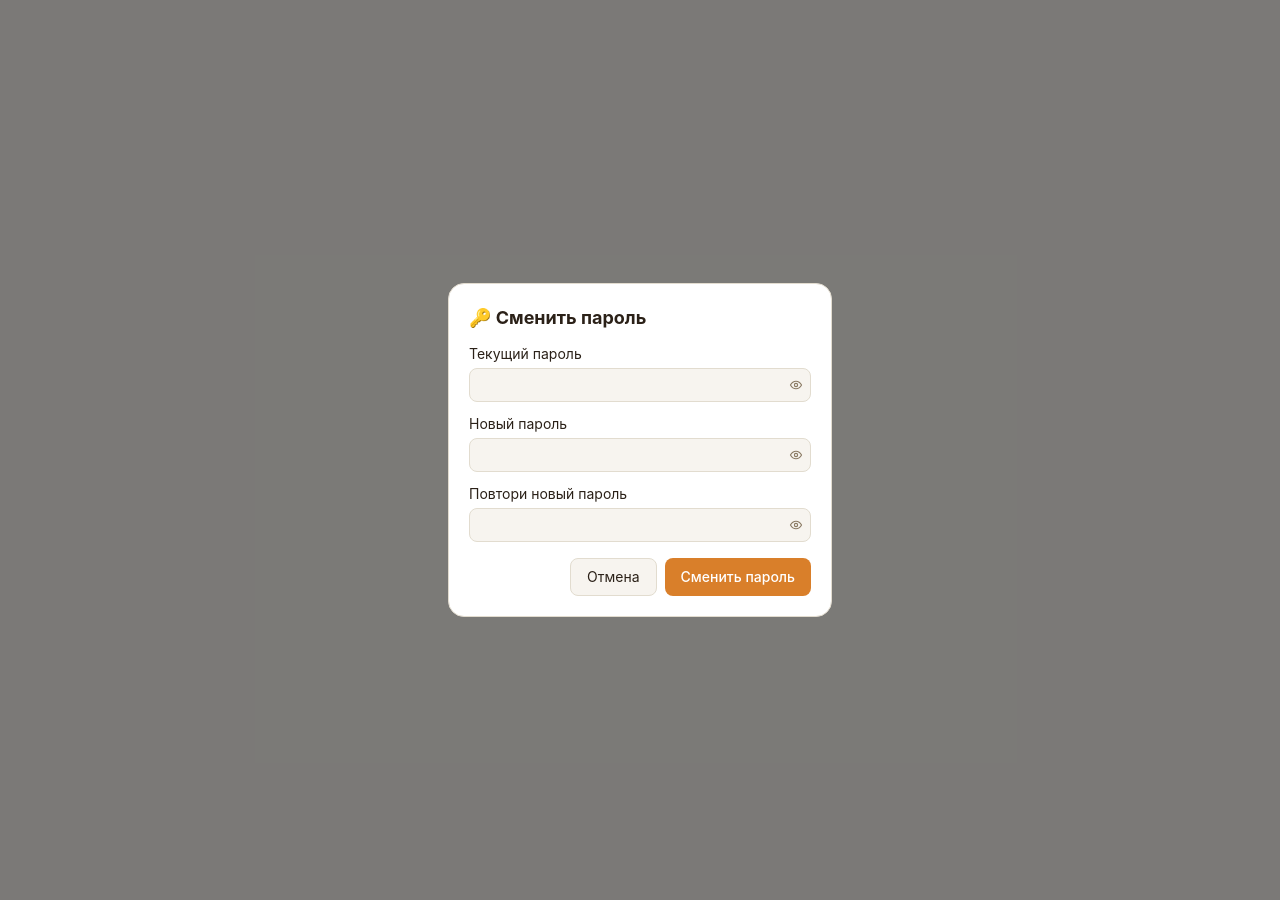
PasswordModal › пустой текущий пароль → сообщение, сеть не трогаем
The image size is (1280, 900).
Type "new-pass" into the password field labelled "Новый пароль".
click(640, 455); type("new-pass")  # box [469,438,811,472]
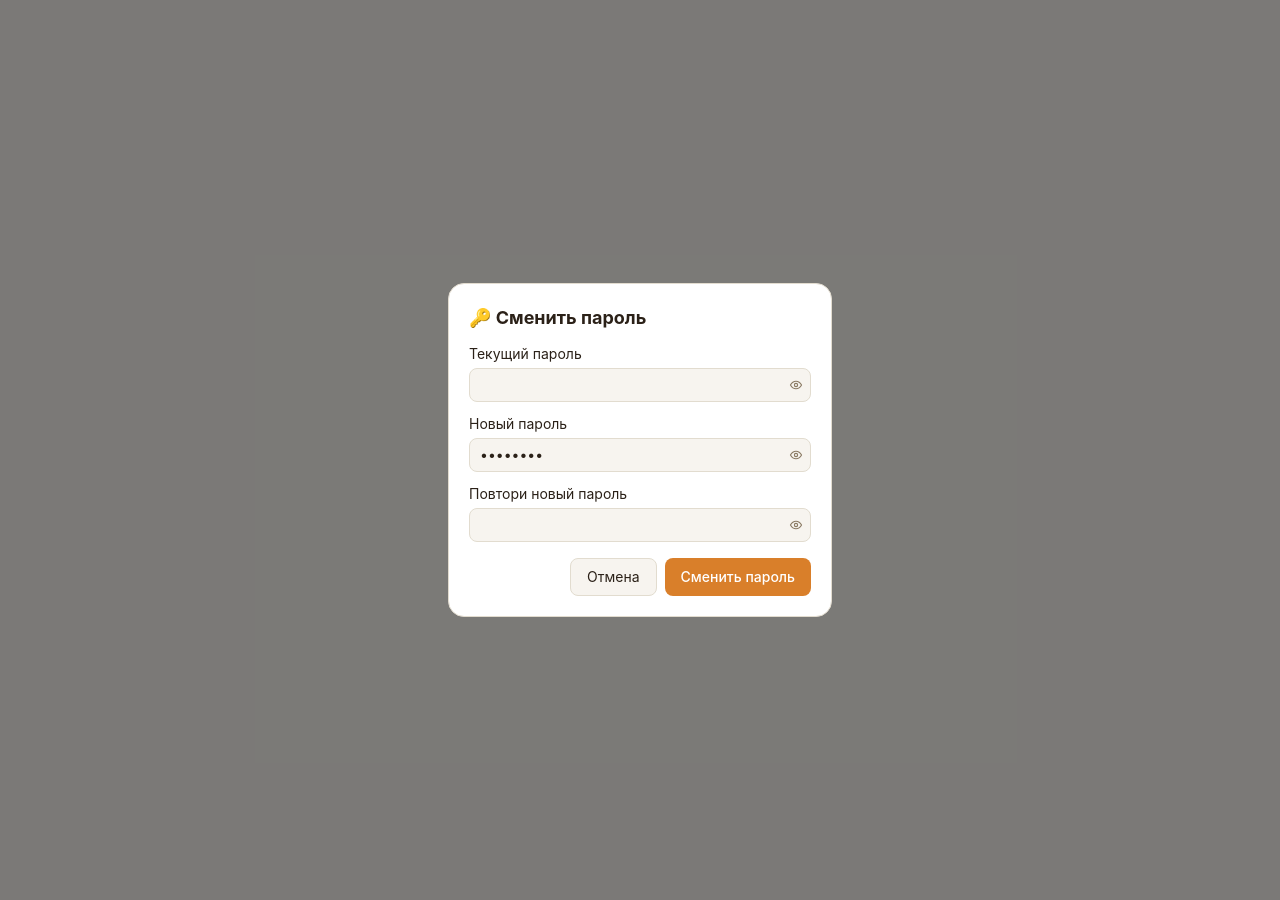
Type "new-pass" into the password field labelled "Повтори новый пароль".
click(640, 525); type("new-pass")  # box [469,508,811,542]
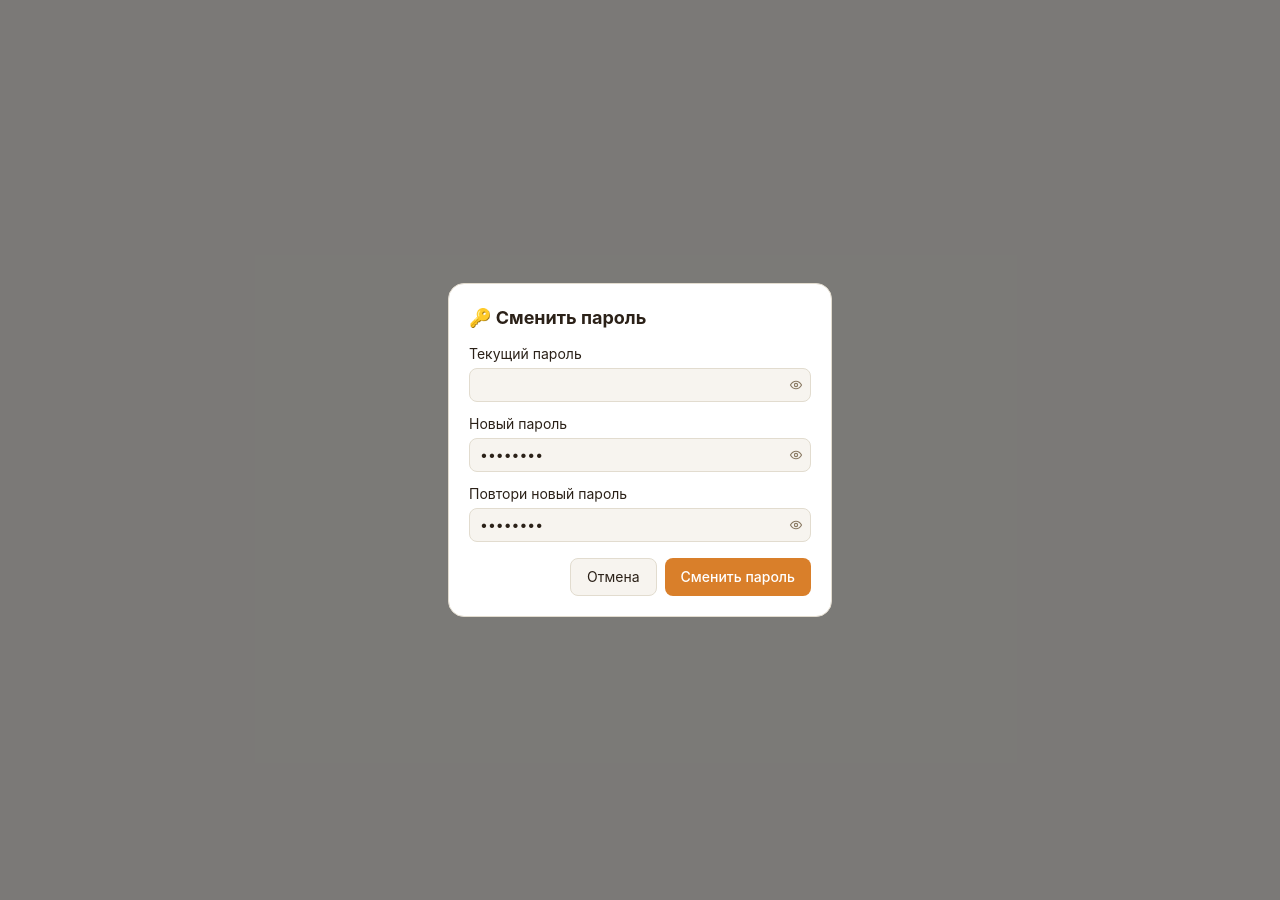
Click the button with test id "submit".
click(738, 577)  # box [664,558,811,596]
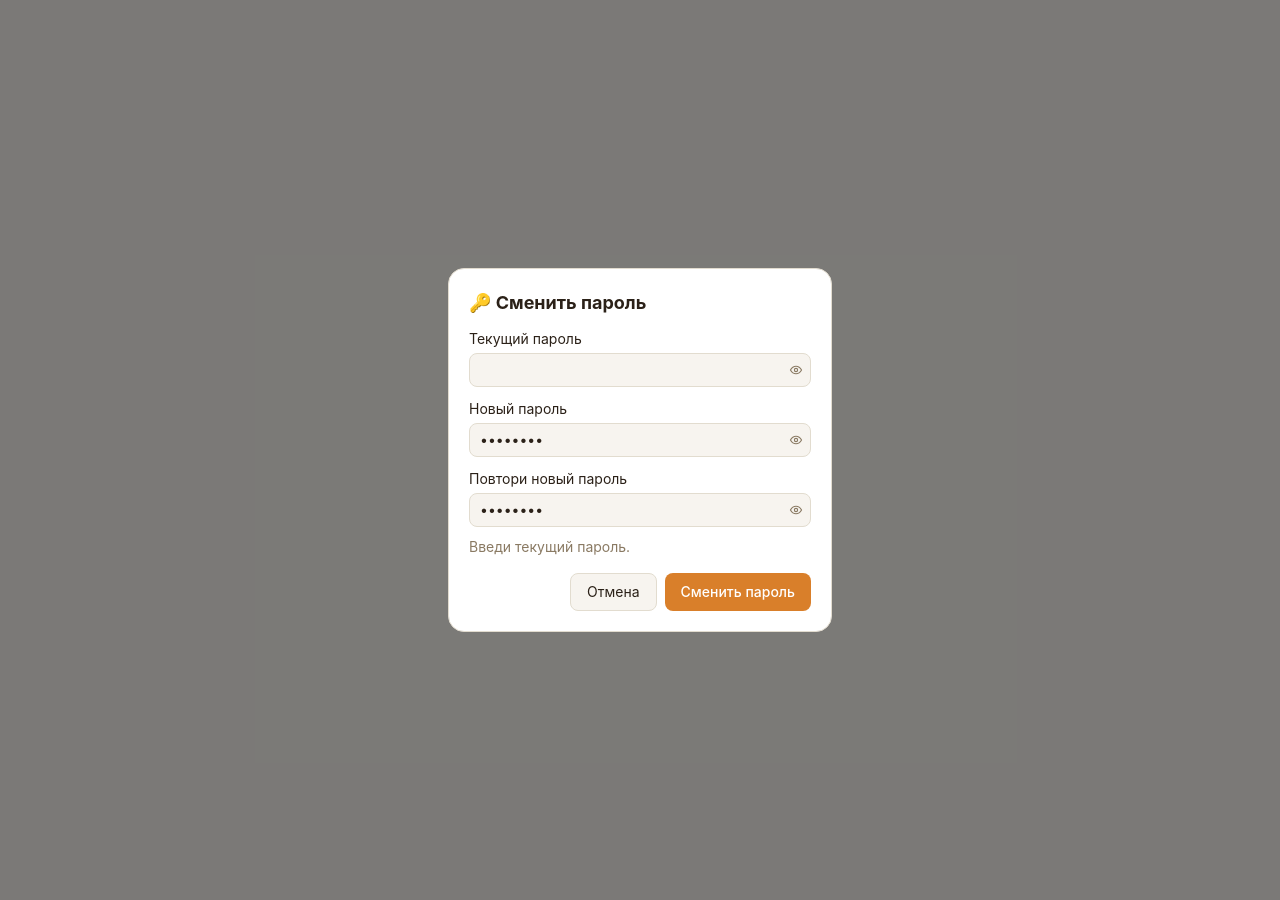
expect the text with test id "password-msg" reads "Введи текущий пароль.": met, box [469,538,630,555]
